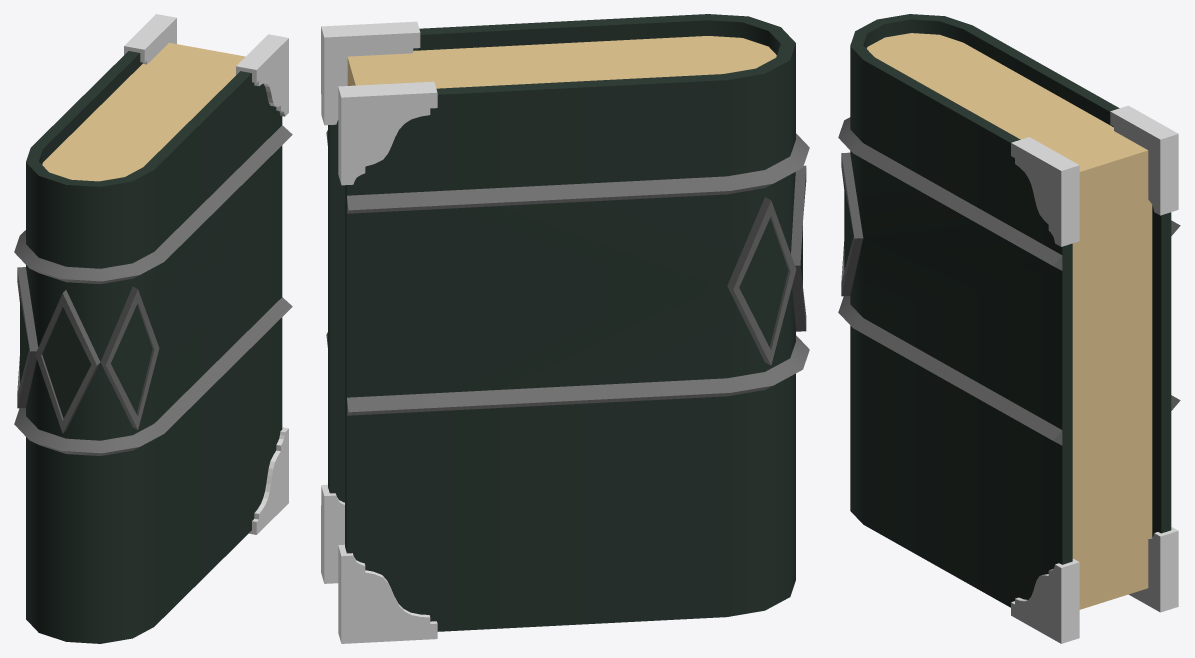
File: obj_Book_11.fbx
3 views of the same model, side by side, from view 1: azimuth 30°, elevation 25°; view 2: azimuth 150°, elevation 25°; view 3: azimuth 270°, elevation 25° (orthographic). The views are drawn at different scales.
Visible parts, largest first — view 1: Book_11, Book_EdgePattern.028; view 2: Book_11, Book_EdgePattern.028; view 3: Book_11, Book_EdgePattern.028.
Part boxes in pixels (<box>): Book_11: <box>14,42,292,643</box>; Book_EdgePattern.028: <box>124,14,288,534</box>; Book_11: <box>326,14,809,631</box>; Book_EdgePattern.028: <box>321,21,437,643</box>; Book_11: <box>838,14,1180,609</box>; Book_EdgePattern.028: <box>1011,105,1178,643</box>.
Size of the model in its own units: 0.231 by 0.3064 by 0.2011.
